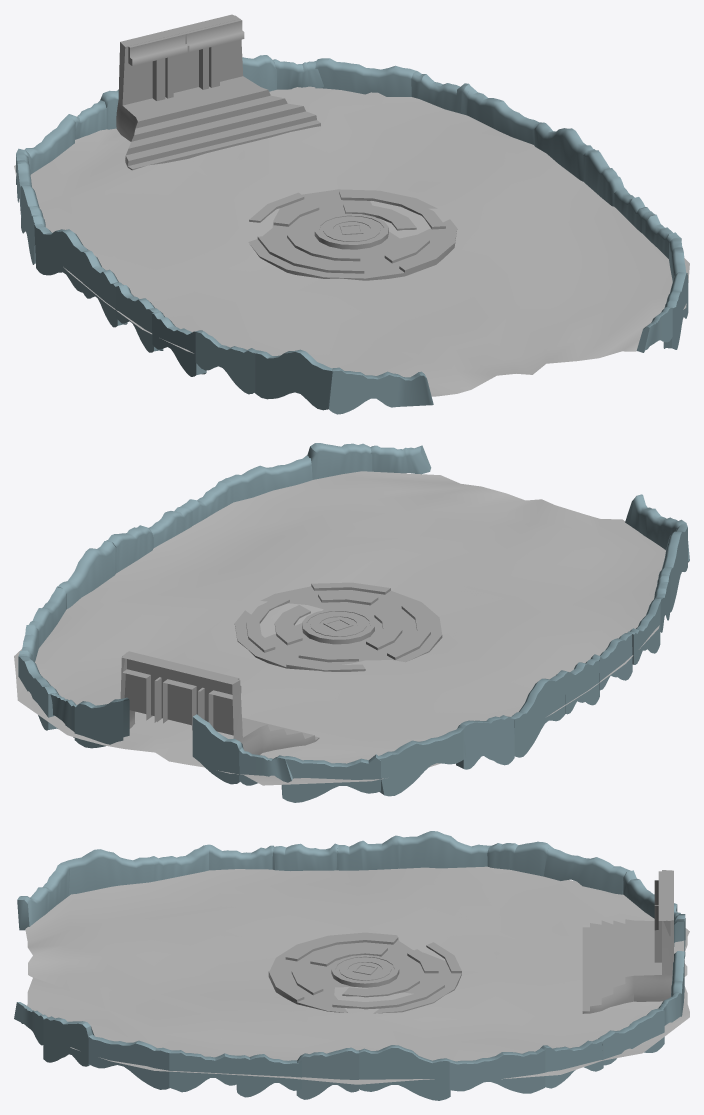
File: MindPalaceMP.fbx
The picture shows the model from 3 angles, top to bottom: view 1: azimuth 30°, elevation 25°; view 2: azimuth 150°, elevation 25°; view 3: azimuth 270°, elevation 25°; orthographic projection. The views are drawn at different scales.
Parts seen in each view (by area): view 1: polySurface128; view 2: polySurface128; view 3: polySurface128.
Boxes of the visible parts, x1,y1,x2,y2 form: polySurface128: (14,14,689,414); polySurface128: (14,443,689,802); polySurface128: (14,831,689,1100).
Size of the model in its own units: 37.74 by 7.69 by 48.32.
